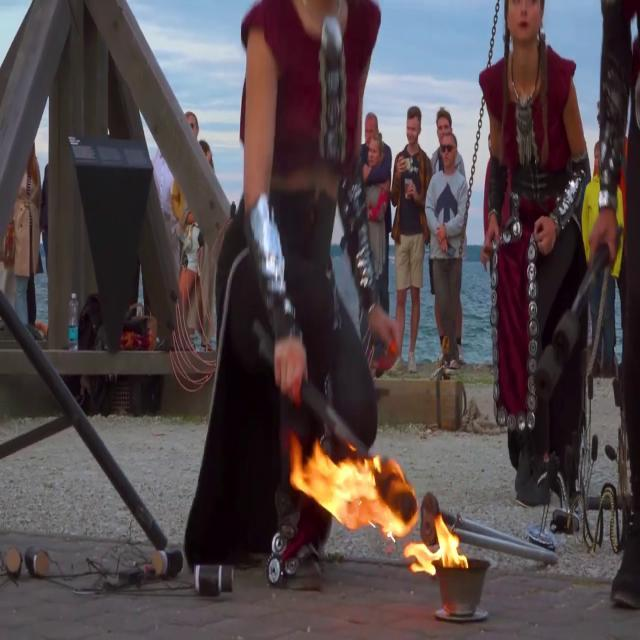Fire: (284, 427, 459, 582)
